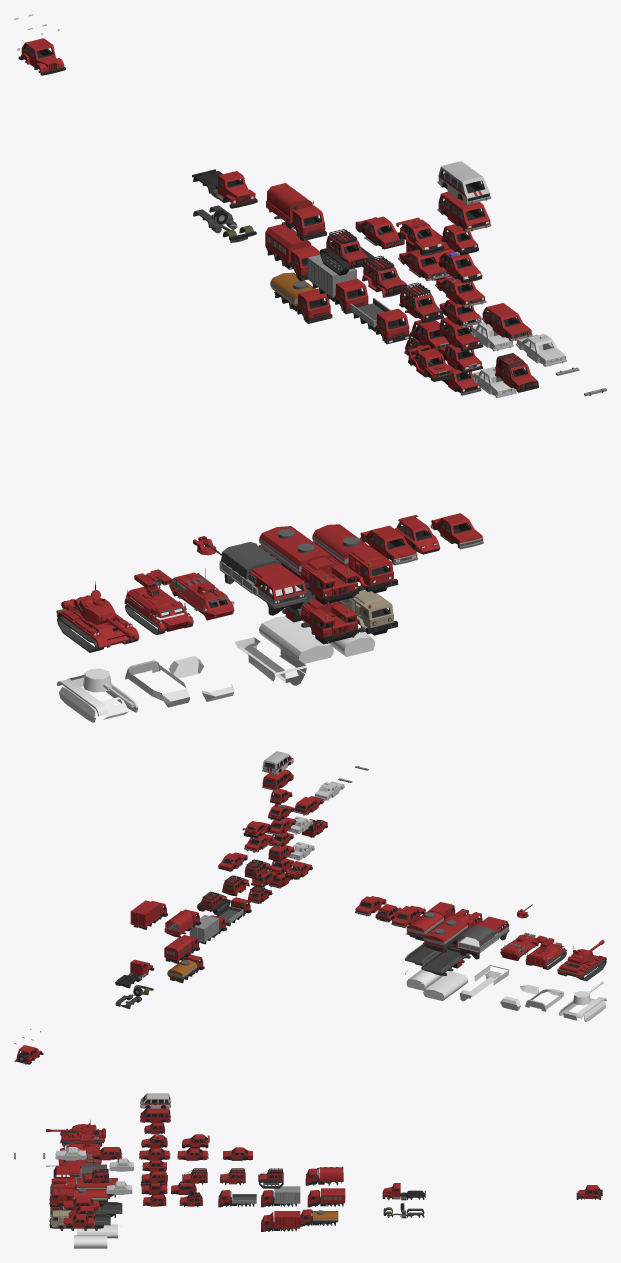
File: Soviet.fbx
The picture shows the model from 3 angles, top to bottom: view 1: azimuth 30°, elevation 25°; view 2: azimuth 150°, elevation 25°; view 3: azimuth 270°, elevation 25°; orthographic projection. The views are drawn at different scales.
Parts seen in each view (by area): view 1: Bastion, Ledorub, Uragan, BastionFlatbed, Fortyforka, TatarinMilitaryTent, Molot, BastionFuelColl, TatarinContainer, TatarinFuel, TatarinPoliceOffroad, Barrier (+22 smaller); view 2: Bastion, Ledorub, Uragan, BastionFlatbed, BastionFuelColl, Fortyforka, TatarinPoliceOffroad, TatarinMilitaryTent, Molot, TatarinDalnoboy, TatarinFuel, TatarinContainer (+8 smaller); view 3: Uragan, TatarinDalnoboy, TatarinContainer, TatarinPoliceOffroad, TatarinMilitaryTent, Bastion, UraganFlatbed, TatarinFuel, Ledorub, TatarinFlatbed, UraganFuelColl, RafikAmbulance (+29 smaller).
Boxes of the visible parts, x1,y1,x2,y2 form: Bastion: (258,526,358,604); Ledorub: (219,542,306,615); Uragan: (312,524,397,593); BastionFlatbed: (282,582,358,644); Fortyforka: (57,595,139,652); TatarinMilitaryTent: (266,183,326,240); Molot: (124,586,193,634); BastionFuelColl: (259,616,333,663); TatarinContainer: (307,254,368,314); TatarinFuel: (270,272,332,323); TatarinPoliceOffroad: (265,224,319,281); Barrier: (169,572,234,620); Bastion: (423,908,482,952); Ledorub: (457,916,509,959); Uragan: (406,902,455,940); BastionFlatbed: (421,943,470,975); BastionFuelColl: (423,972,467,1000); Fortyforka: (557,955,606,981); TatarinPoliceOffroad: (164,935,199,963); TatarinMilitaryTent: (164,909,201,937); Molot: (525,942,566,969); TatarinDalnoboy: (130,900,167,929); TatarinFuel: (167,954,204,983); TatarinContainer: (189,915,226,944); Uragan: (49,1187,107,1209); TatarinDalnoboy: (261,1211,300,1231); TatarinContainer: (261,1186,300,1207); TatarinPoliceOffroad: (307,1188,345,1207); TatarinMilitaryTent: (305,1167,343,1185); Bastion: (50,1178,117,1198); UraganFlatbed: (49,1209,110,1230); TatarinFuel: (300,1209,338,1226); Ledorub: (53,1164,107,1182); TatarinFlatbed: (218,1190,256,1207); UraganFuelColl: (74,1235,107,1248); RafikAmbulance: (140,1093,170,1108).
Bounding box in the file's own units: 7292 × 4706 × 12793.
